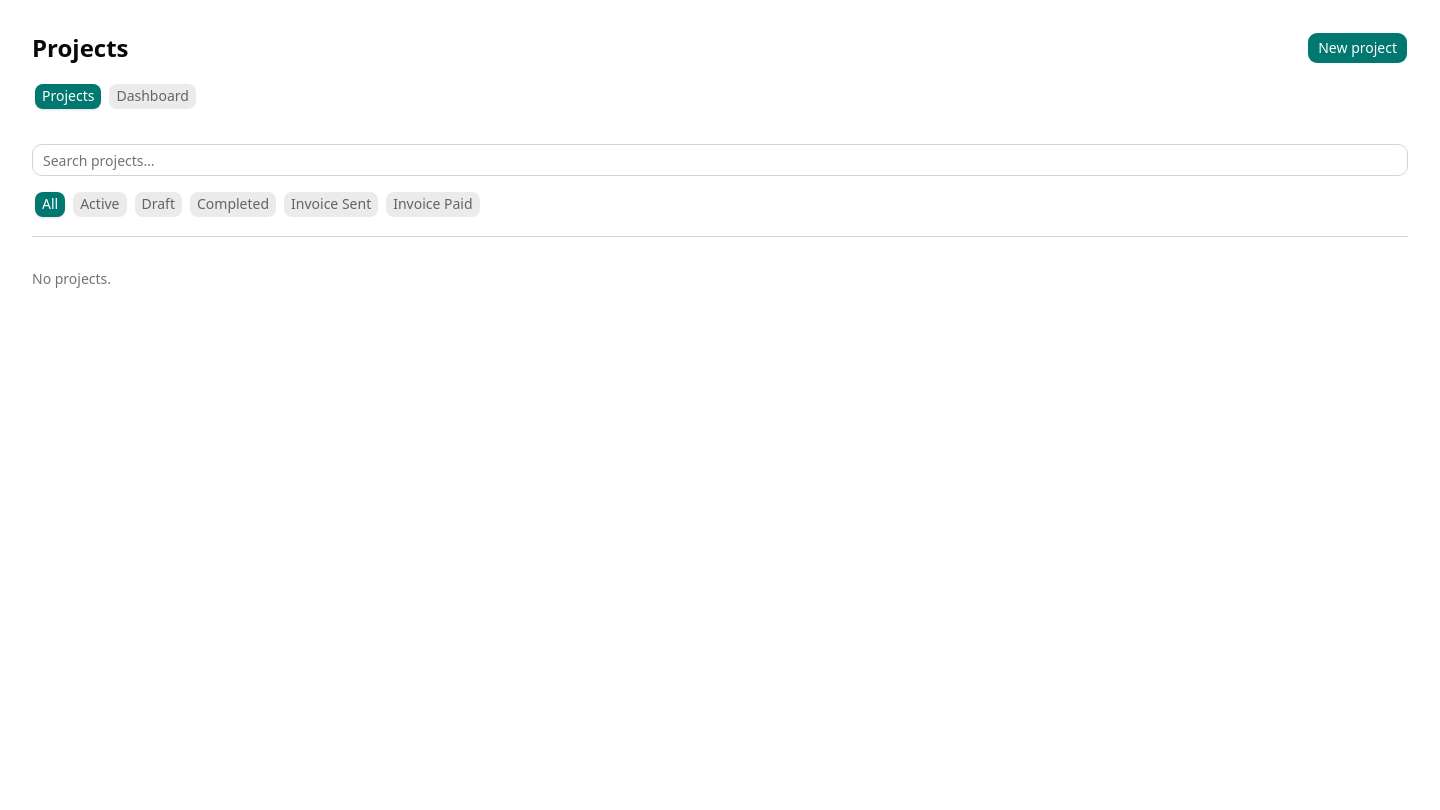
Test: ProjectsList › toggles the create-project form open and closed
The width and height of the screenshot is (1440, 810).
Expected: the text "No projects." is shown, [32, 269, 111, 288]
Step 1. Click the button "New project" → (1358, 48), box [1307, 32, 1408, 64]
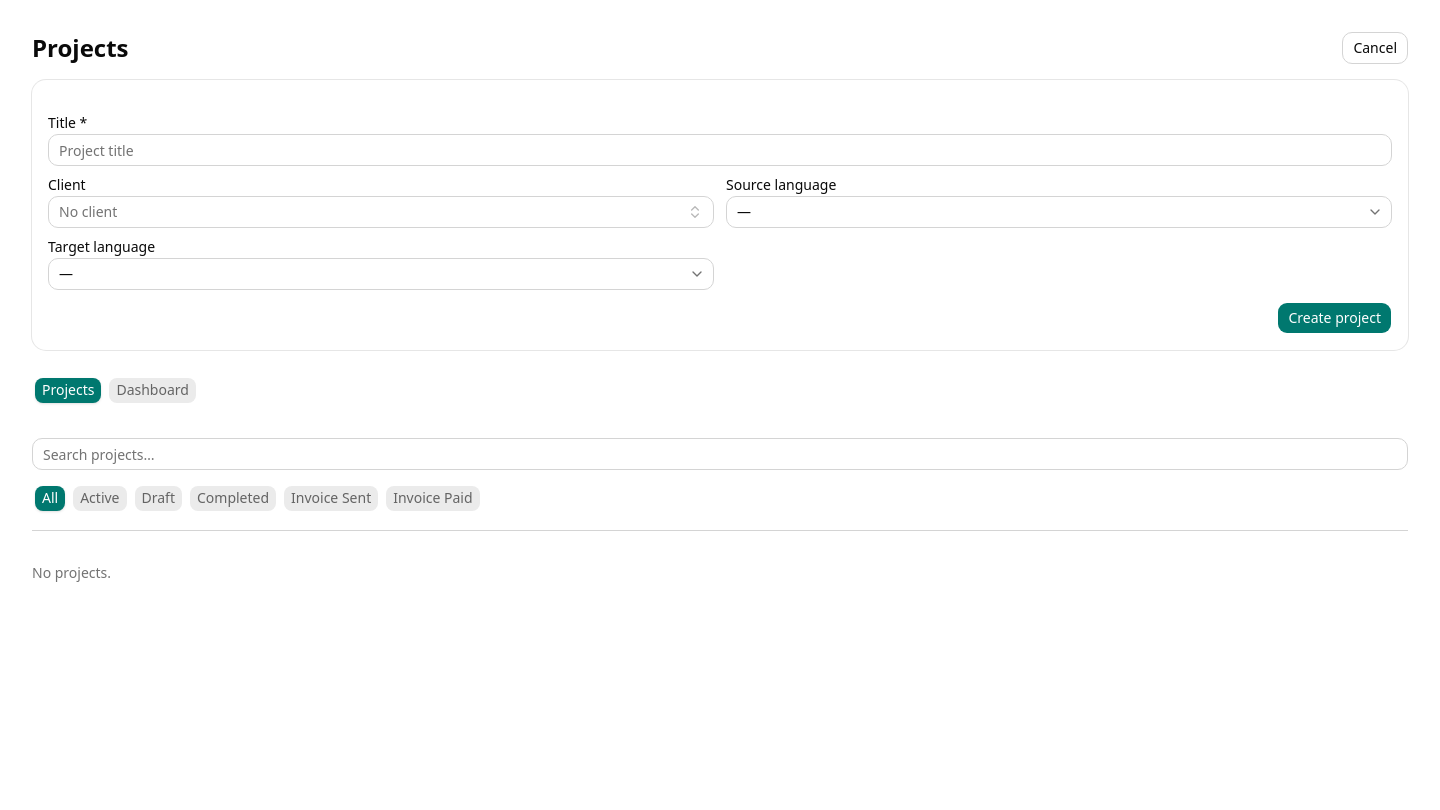
Expected: the button "Create project" is shown, [1277, 302, 1392, 334]
Step 2. Click the button "Cancel" → (1375, 48), box [1342, 32, 1408, 64]
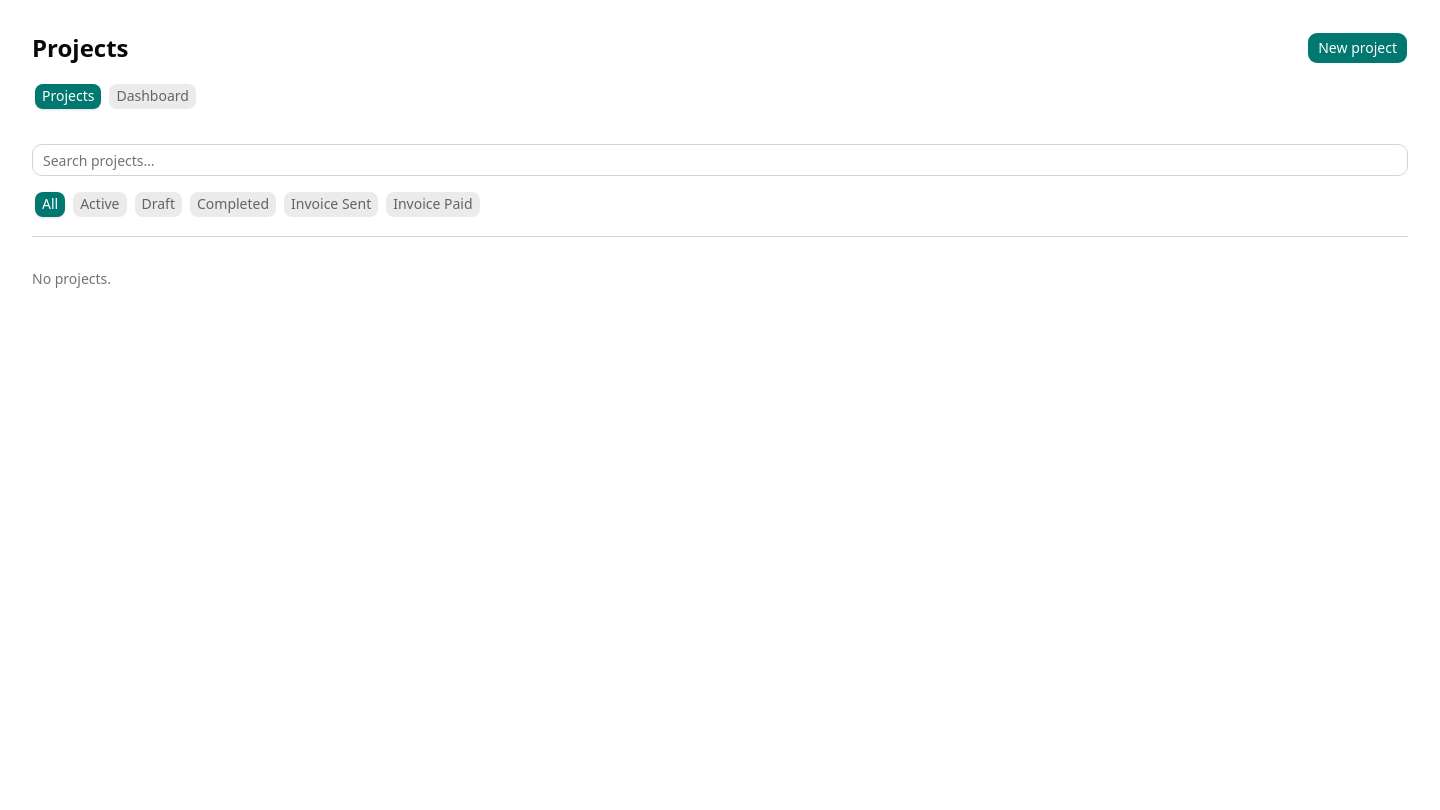
Expected: the button "Create project" is gone
